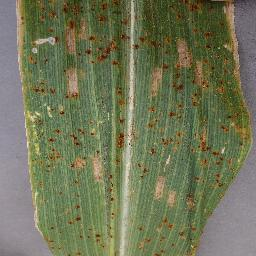Gray_Leaf_Spot: (12, 0, 255, 256)
